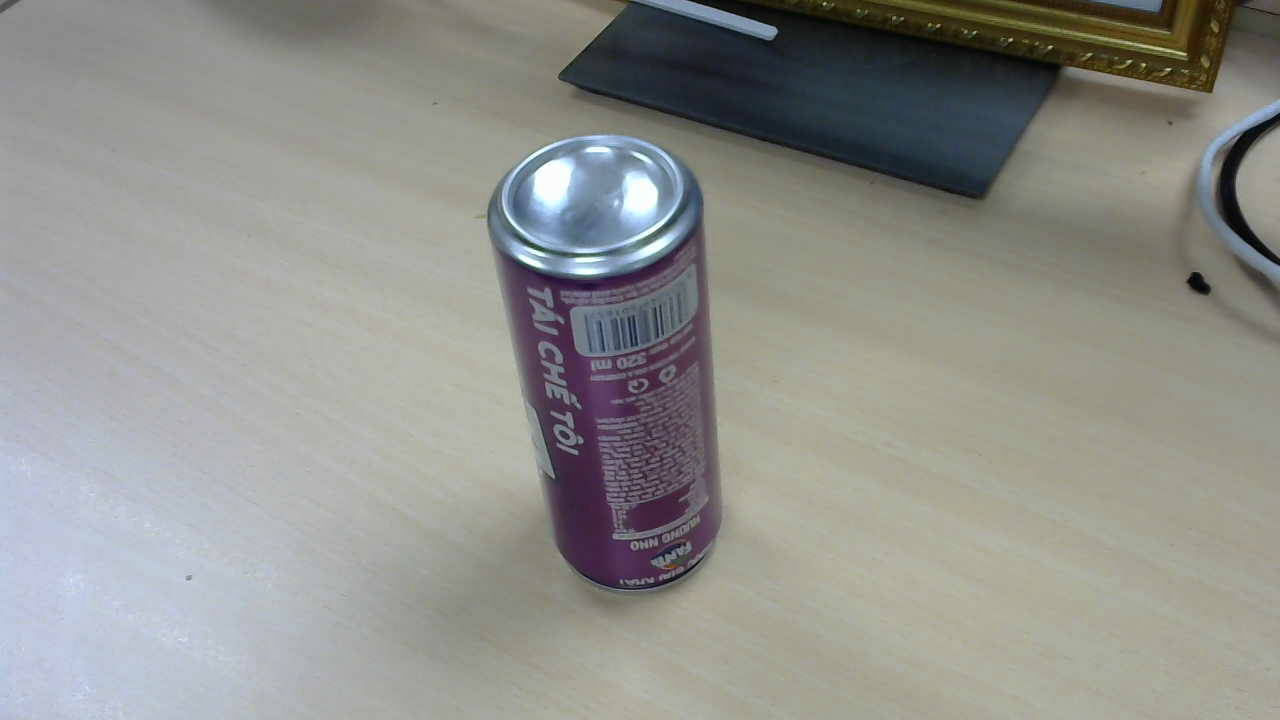Fanta: (488, 136, 732, 602)
